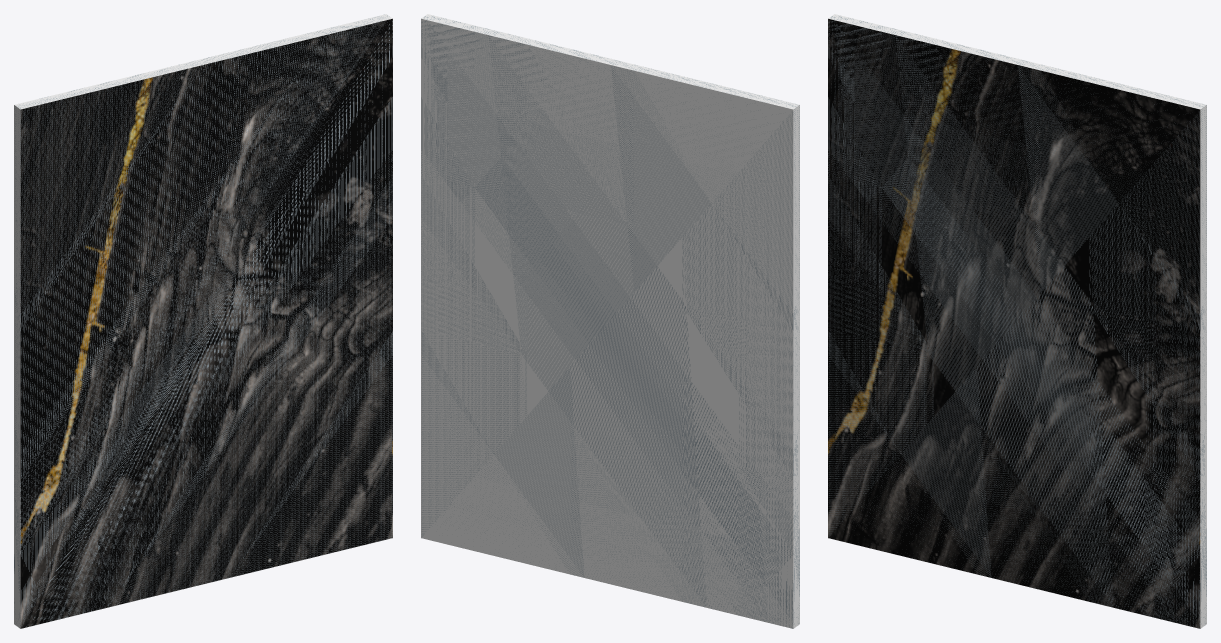
The model's file is art8.dae.
The picture shows the model from 3 angles, left to right: view 1: azimuth 30°, elevation 25°; view 2: azimuth 150°, elevation 25°; view 3: azimuth 330°, elevation 25°; orthographic projection.
Visible parts, largest first — view 1: group_0 (×2); view 2: group_0; view 3: group_0 (×2).
Boxes of the visible parts, box(x1,y1,x2,y2) form: group_0 (×2): box(14, 14, 392, 628); group_0: box(421, 14, 799, 628); group_0 (×2): box(828, 14, 1206, 628).
Bounding box in the file's own units: 23.62 × 0.7087 × 31.5.
Materials: 3 (1 with a texture image).
